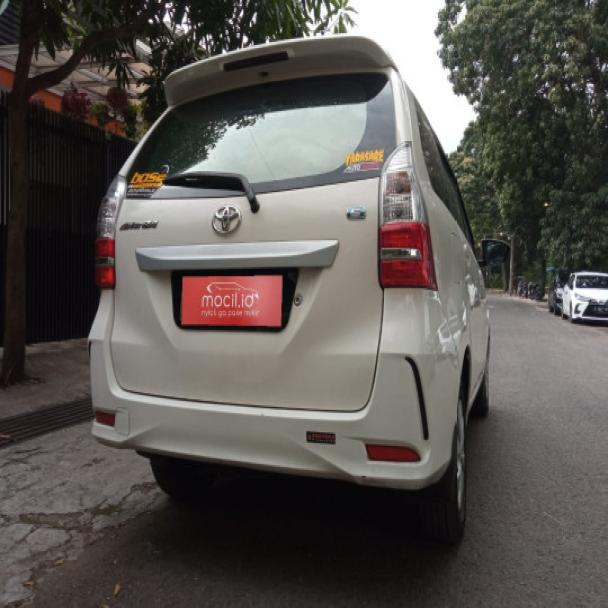Mobil: (87, 31, 489, 540), (546, 266, 607, 330)
